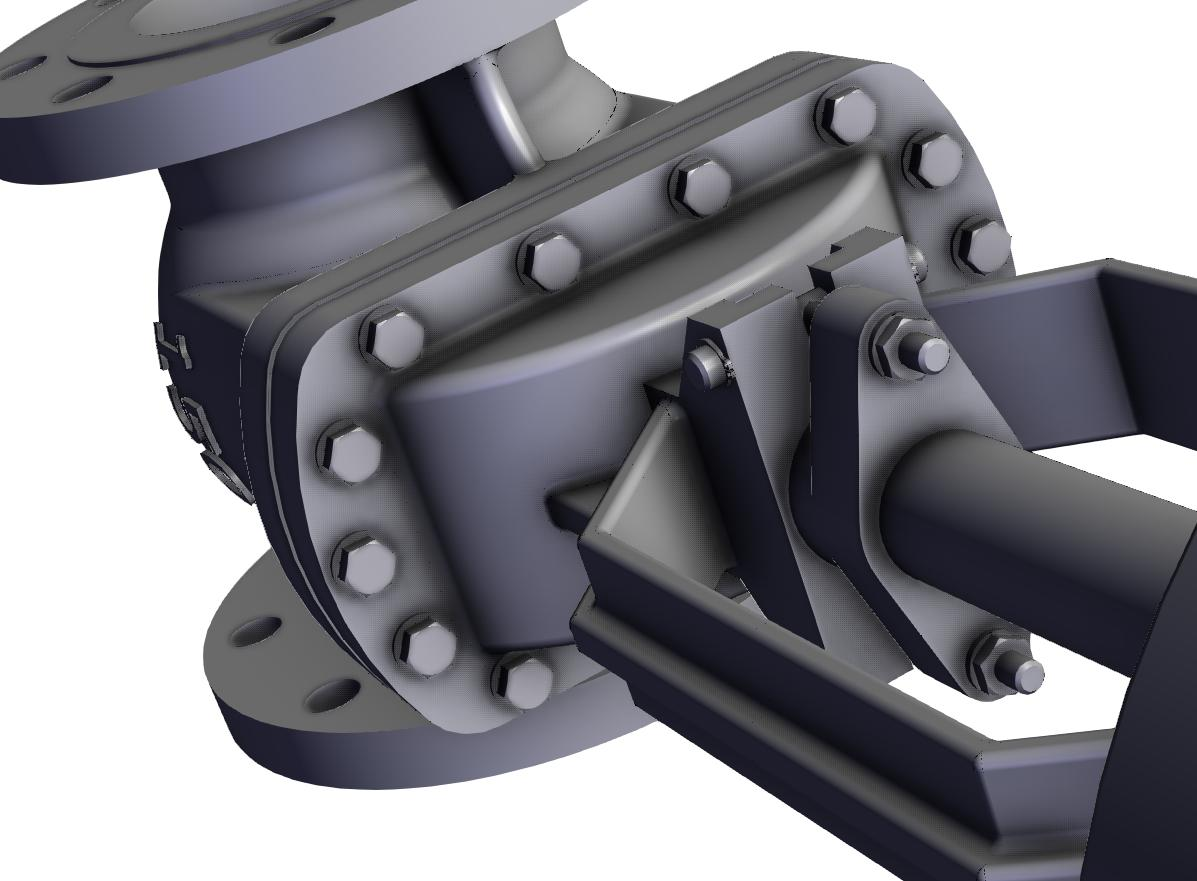bolt_a: (365, 306, 427, 374), (322, 424, 385, 488), (396, 617, 459, 679), (337, 536, 398, 600), (673, 158, 736, 219), (523, 233, 584, 294), (820, 87, 879, 148), (496, 654, 556, 713), (907, 130, 966, 190), (956, 218, 1013, 277)
bolt_b: (876, 313, 946, 384), (972, 634, 1038, 698)
